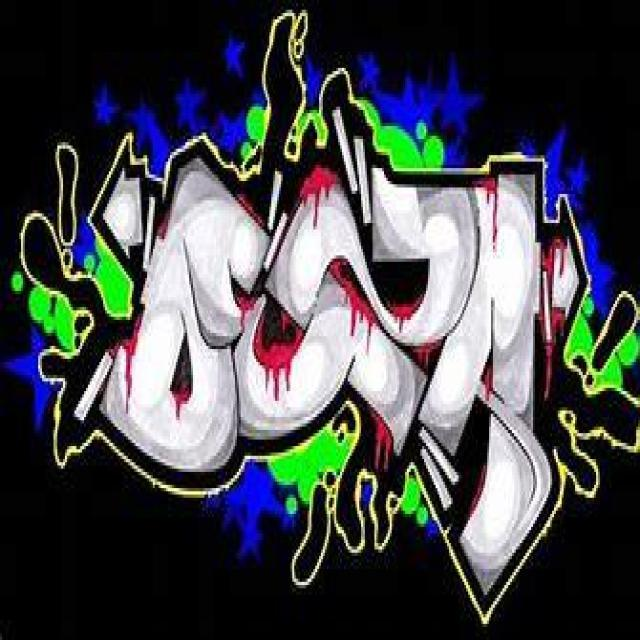nonspitting: (5, 13, 640, 627)
